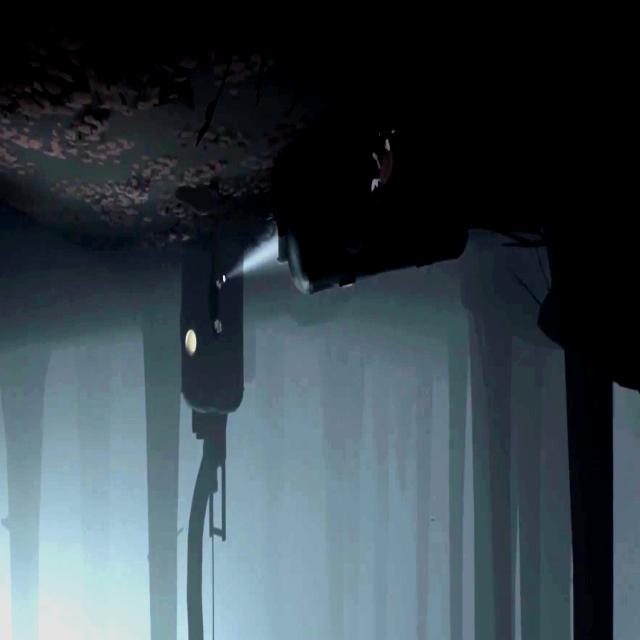boy: (371, 123, 396, 204)
human: (208, 230, 226, 337)
